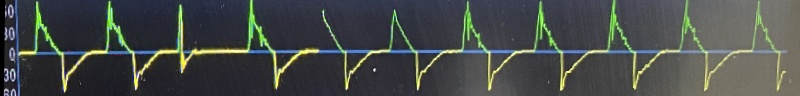hydrop_flow: (455, 0, 797, 96), (16, 0, 320, 94)
normal_flow: (326, 5, 444, 94)
